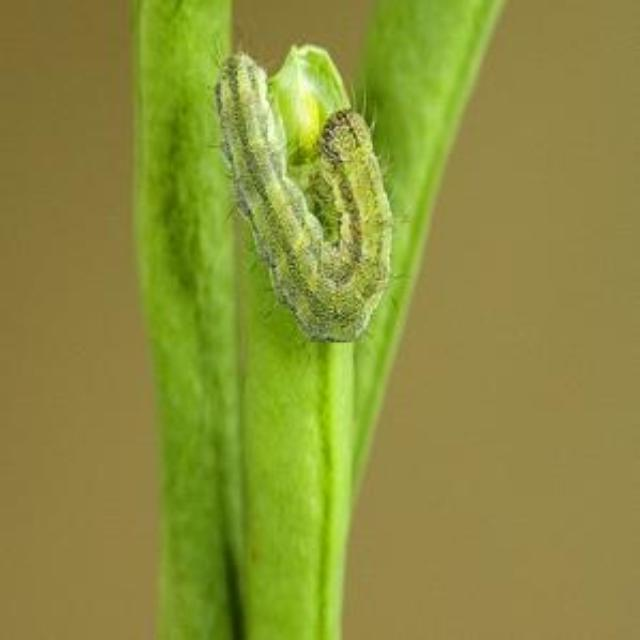Cotton bollworm: (190, 28, 414, 350)
